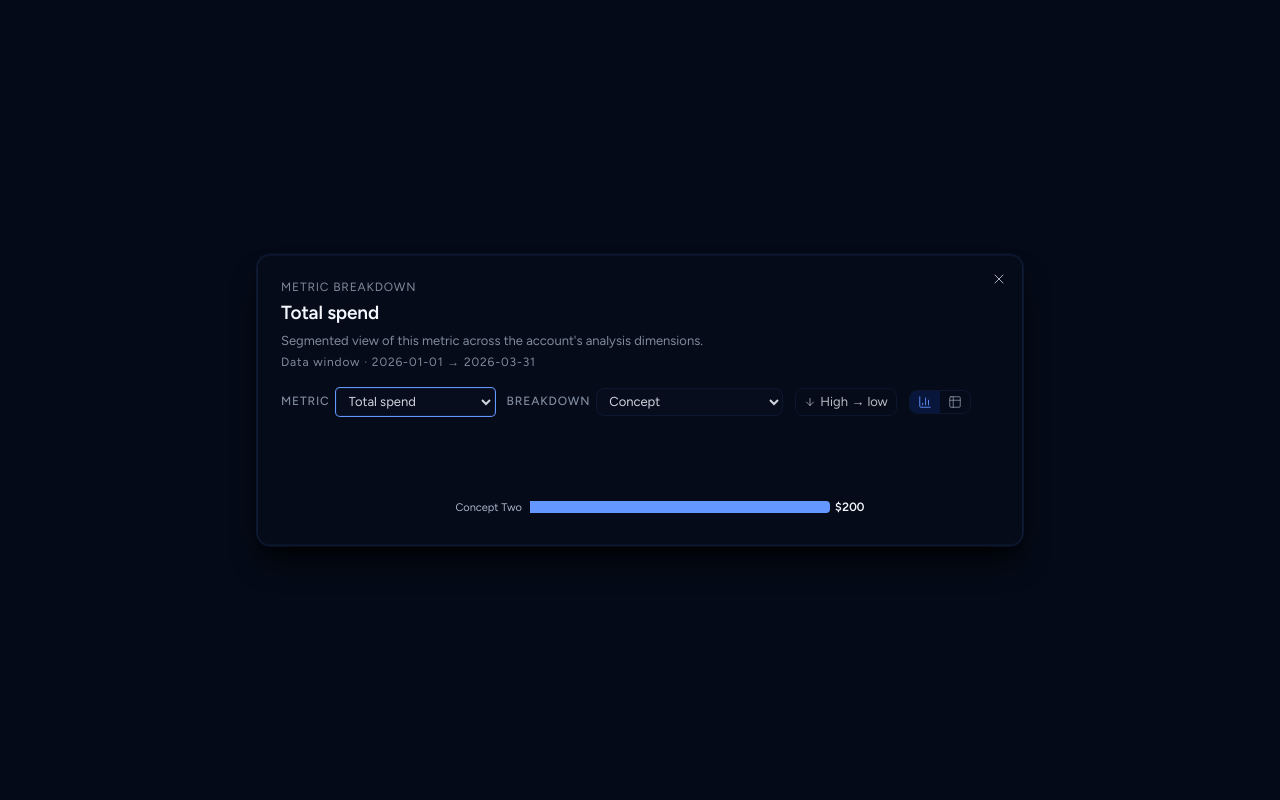
Test case: KpiDrilldownModal · account scope › conversion-basis dimension with a delivery metric shows the tracking-basis restriction
This screenshot has width=1280, height=800.
Step 1. Select "Device (conversion basis)" in the dropdown labelled "Breakdown" → (690, 401), box [596,387,783,415]
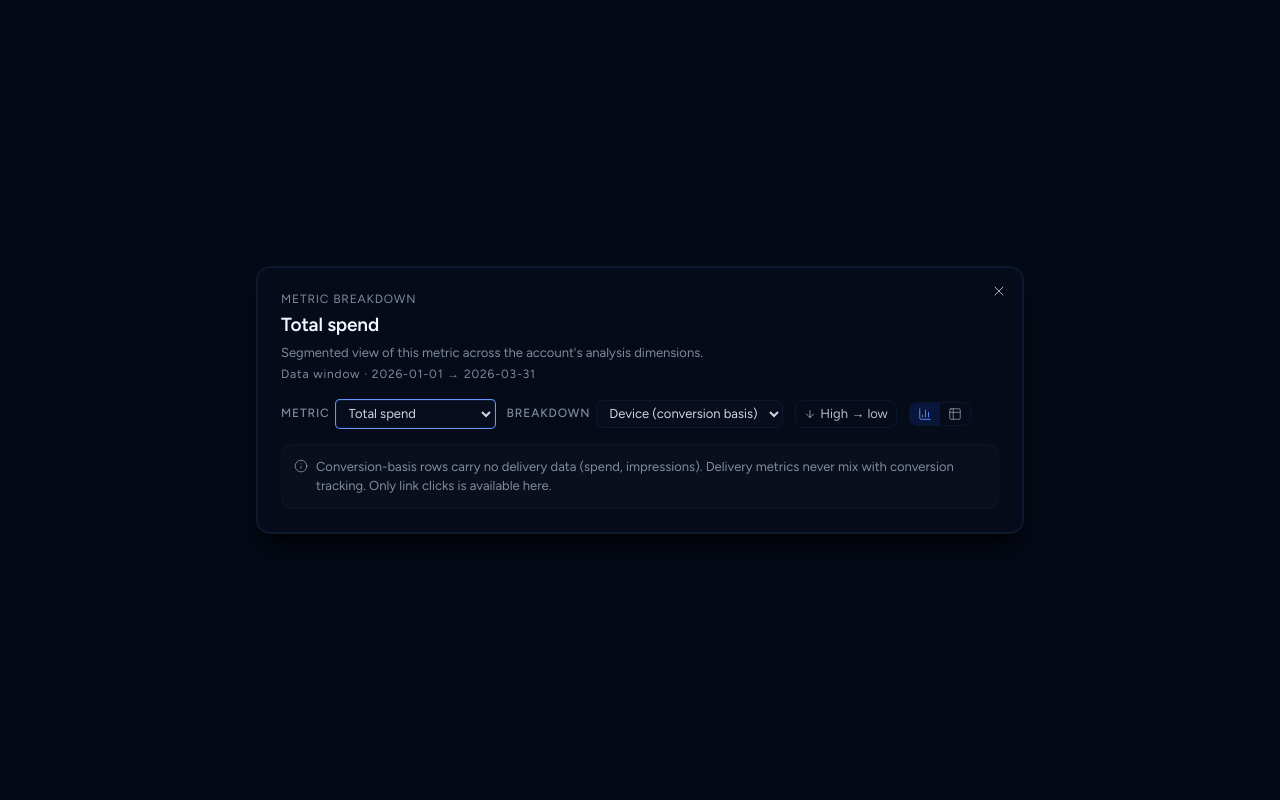
Check: the dialog with test id "kpi-drilldown-modal" shows "never mix with conversion tracking", box [316,459,954,493]
